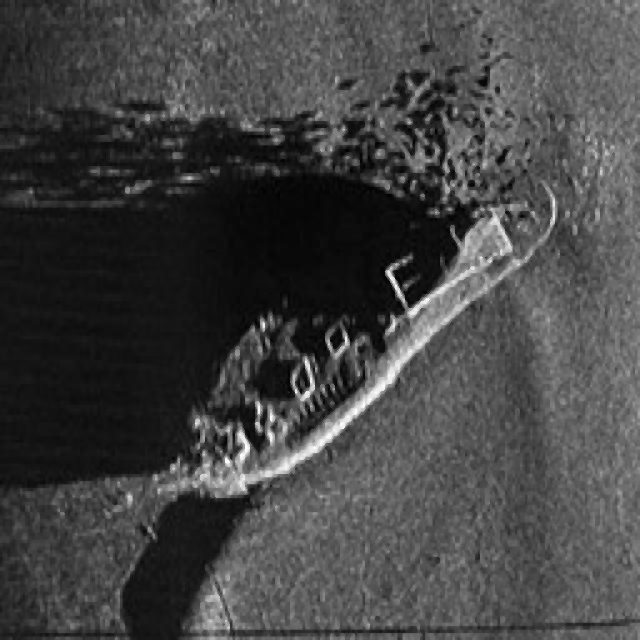Ship: (121, 154, 571, 541)
